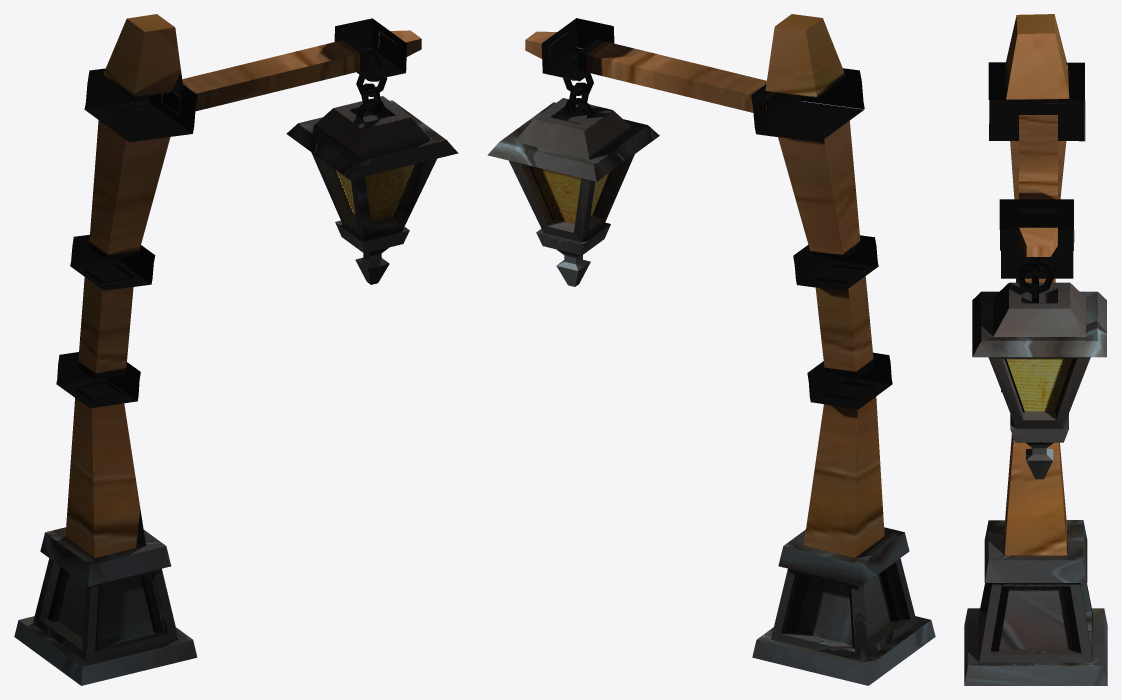
Rendered from poste.fbx.
The picture shows the model from 3 angles, left to right: view 1: azimuth 30°, elevation 25°; view 2: azimuth 150°, elevation 25°; view 3: azimuth 270°, elevation 25°; orthographic projection. The views are drawn at different scales.
Visible parts, largest first — view 1: Cube.003; view 2: Cube.003; view 3: Cube.003.
Boxes of the visible parts, left/top/right/bottom form: Cube.003: left=14, top=14, right=458, bottom=685; Cube.003: left=487, top=14, right=935, bottom=685; Cube.003: left=964, top=14, right=1107, bottom=685.
Size of the model in its own units: 150 by 232 by 45.84.
